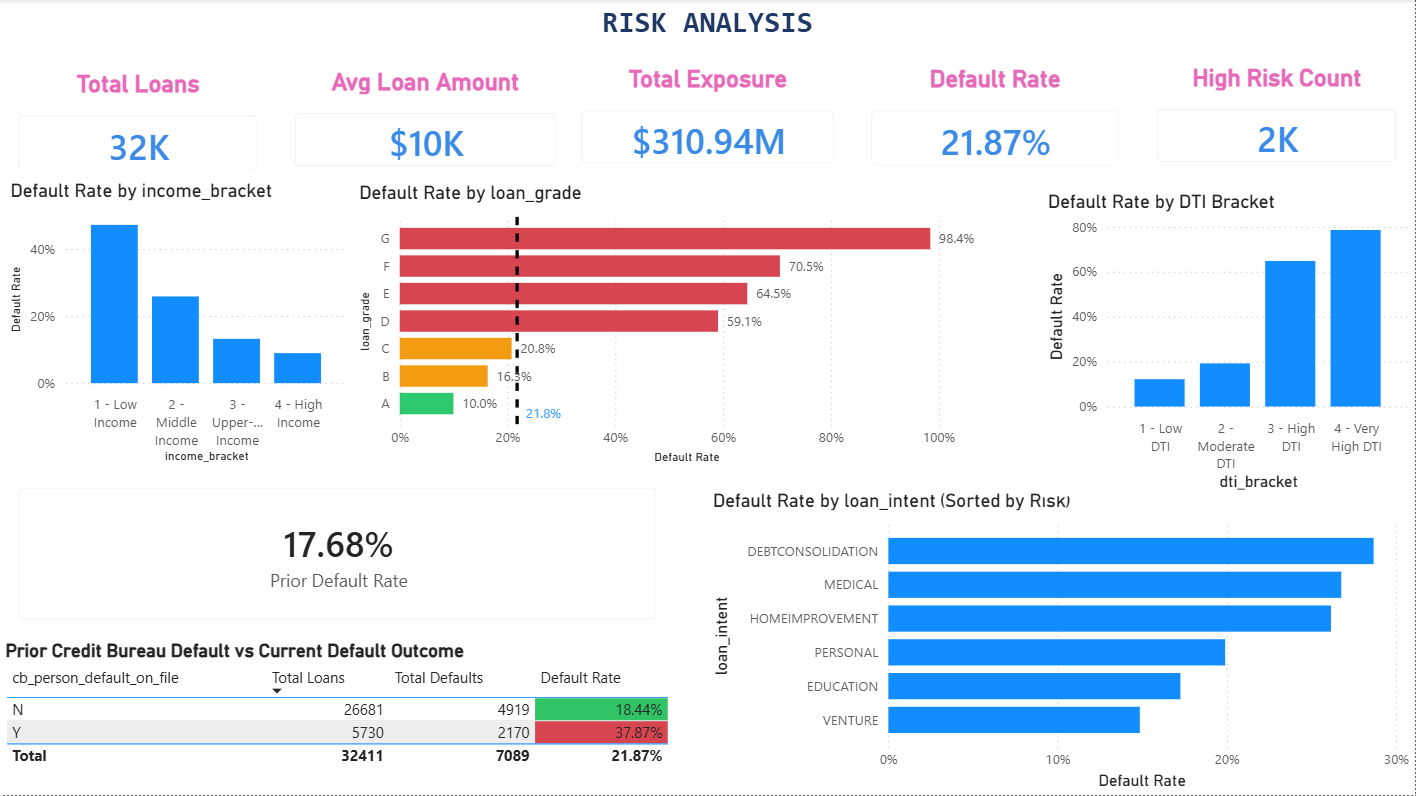

The page's visual inventory and layout, read from the dashboard file:
{"tool":"powerbi","page":{"name":"Risk Analysis","canvas":[1280,720],"ordinal":1},"visuals":[{"type":"cardVisual","title":"Total Loans","fields":{"Data":["CountNonNull(credit_risk_segmented.loan_amnt)"]},"box":[0,65,250,108.3],"z":0},{"type":"cardVisual","title":"Default Rate","fields":{"Data":["credit_risk_segmented.Default Rate"]},"box":[771.7,60,258.3,108.3],"z":1000},{"type":"cardVisual","title":"High Risk Count","fields":{"Data":["credit_risk_segmented.High Risk Count"]},"box":[1030,58.3,250,106.7],"z":2000},{"type":"cardVisual","title":"Total Exposure","fields":{"Data":["credit_risk_segmented.Total Exposure"]},"box":[508.3,60,263.3,106.7],"z":3000},{"type":"cardVisual","title":"Avg Loan Amount","fields":{"Data":["credit_risk_segmented.Avg Loan Amount"]},"box":[250,61.7,270,106.7],"z":4000},{"type":"clusteredBarChart","fields":{"Category":["credit_risk_segmented.loan_grade"],"Y":["credit_risk_segmented.Default Rate"]},"box":[320,165,581.7,260],"z":5000},{"type":"textbox","box":[0,0,1280,58],"z":6000},{"type":"barChart","title":"Default Rate by loan_intent (Sorted by Risk)","fields":{"Category":["credit_risk_segmented.loan_intent"],"Y":["credit_risk_segmented.Default Rate"]},"box":[640,443.3,640,276.7],"z":7000},{"type":"columnChart","title":"Default Rate by DTI Bracket","fields":{"Category":["credit_risk_segmented.dti_bracket"],"Y":["credit_risk_segmented.Default Rate"]},"box":[943.3,173.3,336.7,276.7],"z":8000},{"type":"lineClusteredColumnComboChart","fields":{"Category":["credit_risk_segmented.income_bracket"],"Y":["credit_risk_segmented.Default Rate"]},"box":[5,163.3,315,261.7],"z":9000},{"type":"cardVisual","fields":{"Data":["credit_risk_segmented.Prior Default Rate"]},"box":[0,425,611.7,153.3],"z":10000},{"type":"tableEx","title":"Prior Credit Bureau Default vs Current Default Outcome","fields":{"Values":["credit_risk_segmented.cb_person_default_on_file","credit_risk_segmented.Total Loans","credit_risk_segmented.Total Defaults","credit_risk_segmented.Default Rate"]},"box":[0,578.3,611.7,141.7],"z":11000}]}

Visuals, with their boxes in screenshot pixels (x1, y1, x2, y2), scaled from the page's 1280x720 canvas onto the 1416x796 screenshot:
"Total Loans" cardVisual: bbox=[0, 72, 277, 192]
"Default Rate" cardVisual: bbox=[854, 66, 1139, 186]
"High Risk Count" cardVisual: bbox=[1139, 64, 1415, 182]
"Total Exposure" cardVisual: bbox=[562, 66, 854, 184]
"Avg Loan Amount" cardVisual: bbox=[277, 68, 575, 186]
clusteredBarChart - credit_risk_segmented.loan_grade x credit_risk_segmented.Default Rate: bbox=[354, 182, 998, 470]
textbox: bbox=[0, 0, 1415, 64]
"Default Rate by loan_intent (Sorted by Risk)" barChart: bbox=[708, 490, 1415, 795]
"Default Rate by DTI Bracket" columnChart: bbox=[1044, 192, 1415, 498]
lineClusteredColumnComboChart - credit_risk_segmented.income_bracket x credit_risk_segmented.Default Rate: bbox=[6, 181, 354, 470]
cardVisual - credit_risk_segmented.Prior Default Rate: bbox=[0, 470, 677, 639]
"Prior Credit Bureau Default vs Current Default Outcome" tableEx: bbox=[0, 639, 677, 795]
